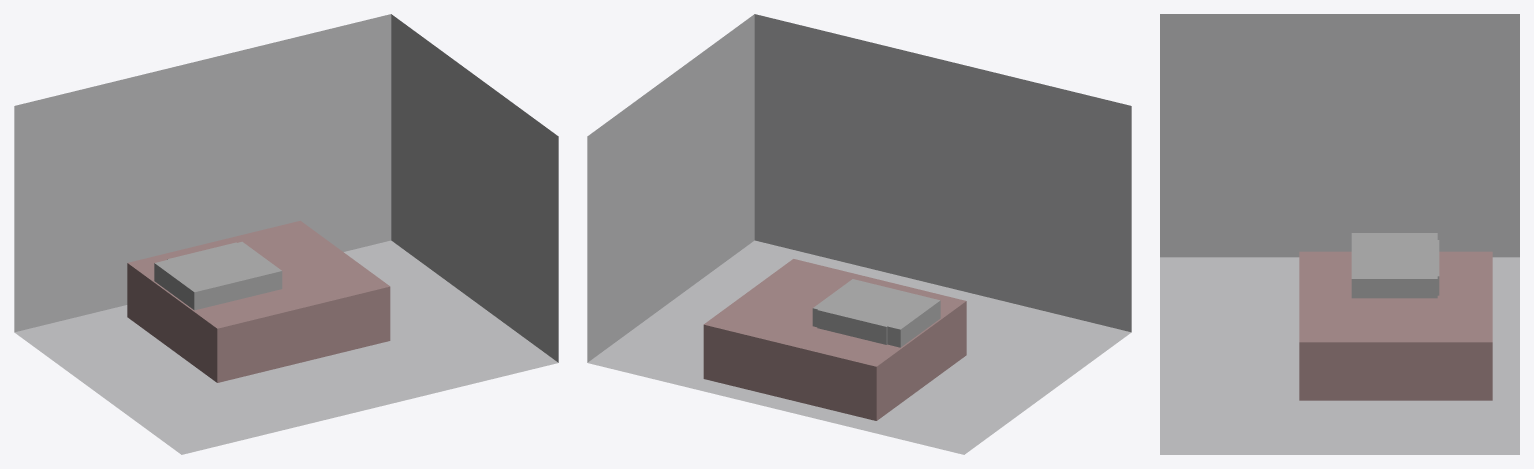
Rendered from optimised_layout.glb.
3 views of the same model, side by side, from view 1: azimuth 30°, elevation 25°; view 2: azimuth 150°, elevation 25°; view 3: azimuth 270°, elevation 25° (orthographic). The views are drawn at different scales.
Visible parts, largest first — view 1: room, bed, centerTable, dustbin, sofas; view 2: room, bed, sofas, dustbin, centerTable; view 3: room, bed, centerTable, dustbin, sofas.
Boxes of the visible parts, left/top/right/bottom form: room: left=14, top=14, right=558, bottom=454; bed: left=127, top=220, right=390, bottom=382; centerTable: left=173, top=241, right=282, bottom=305; dustbin: left=154, top=260, right=263, bottom=310; sofas: left=167, top=242, right=275, bottom=276; room: left=587, top=14, right=1131, bottom=454; bed: left=703, top=259, right=966, bottom=420; sofas: left=817, top=281, right=904, bottom=344; dustbin: left=879, top=285, right=940, bottom=347; centerTable: left=812, top=279, right=897, bottom=327; room: left=1160, top=14, right=1519, bottom=454; bed: left=1299, top=251, right=1492, bottom=400; centerTable: left=1351, top=242, right=1437, bottom=298; dustbin: left=1351, top=233, right=1437, bottom=242; sofas: left=1353, top=240, right=1439, bottom=295.
Size of the model in its own units: 4.36 by 2.5 by 3.35.
